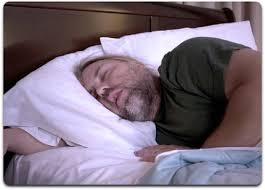sleeping: (5, 34, 262, 170)
